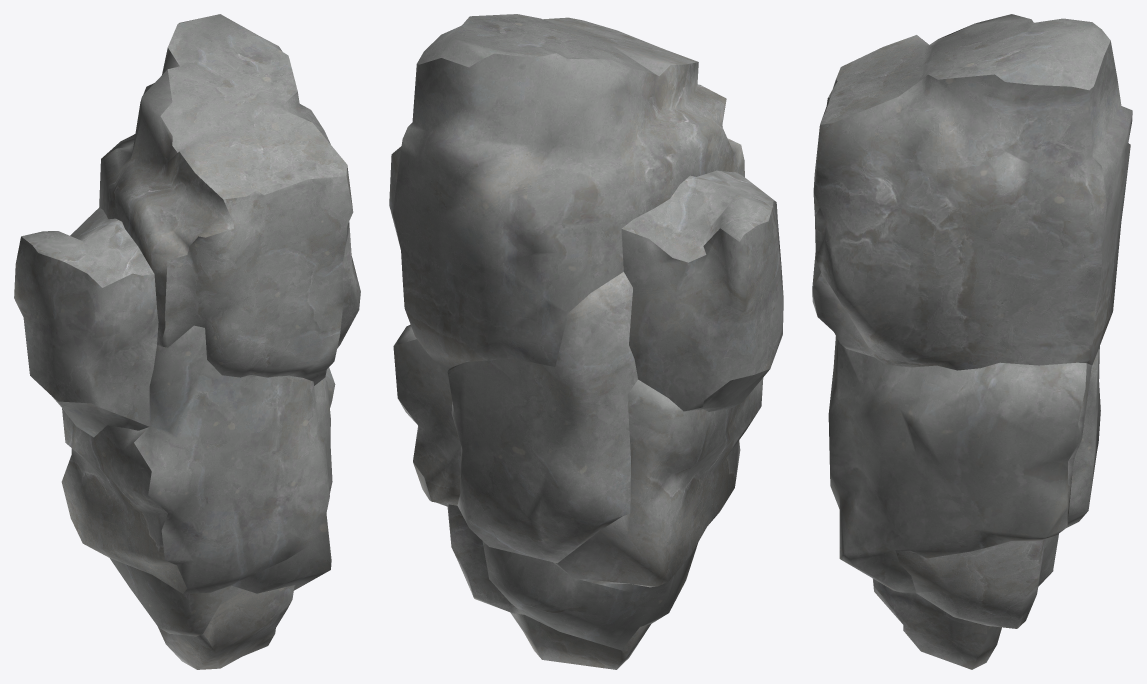
File: SM_Com_Roc_41AS.fbx
3 renders of one model, left to right at view 1: azimuth 30°, elevation 25°; view 2: azimuth 150°, elevation 25°; view 3: azimuth 270°, elevation 25°, orthographic. The views are drawn at different scales.
Visible parts, largest first — view 1: SM_Com_Roc_41AS.mo; view 2: SM_Com_Roc_41AS.mo; view 3: SM_Com_Roc_41AS.mo.
Boxes of the visible parts, x1,y1,x2,y2 form: SM_Com_Roc_41AS.mo: (14, 14, 360, 669); SM_Com_Roc_41AS.mo: (389, 14, 783, 669); SM_Com_Roc_41AS.mo: (812, 14, 1132, 669).
Size of the model in its own units: 7.53 by 14.57 by 6.59.
